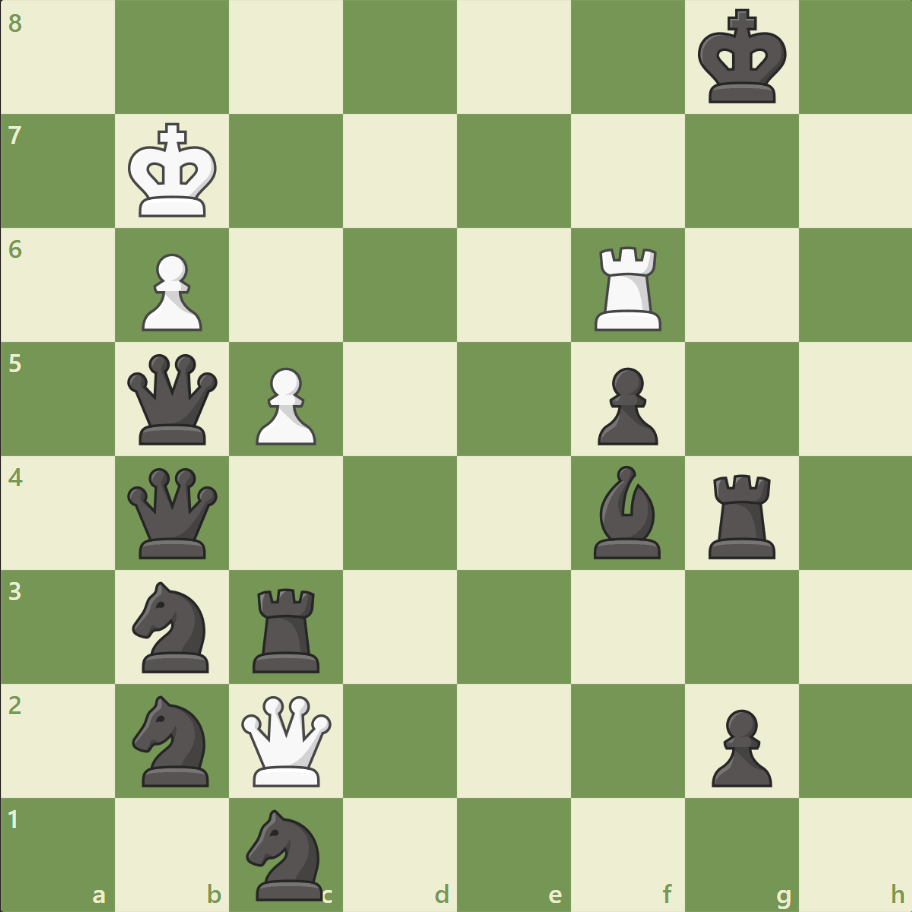K: (124, 117, 224, 225)
P: (133, 246, 208, 337), (247, 359, 322, 450)
Q: (237, 690, 336, 789)
R: (587, 239, 670, 336)
b: (585, 460, 669, 563)
k: (692, 4, 792, 112)
n: (124, 688, 222, 791), (124, 575, 222, 677), (238, 802, 335, 904)
p: (701, 700, 776, 791), (588, 359, 662, 450)
q: (124, 349, 223, 449), (124, 463, 223, 562)
r: (700, 466, 783, 563), (246, 579, 329, 676)
